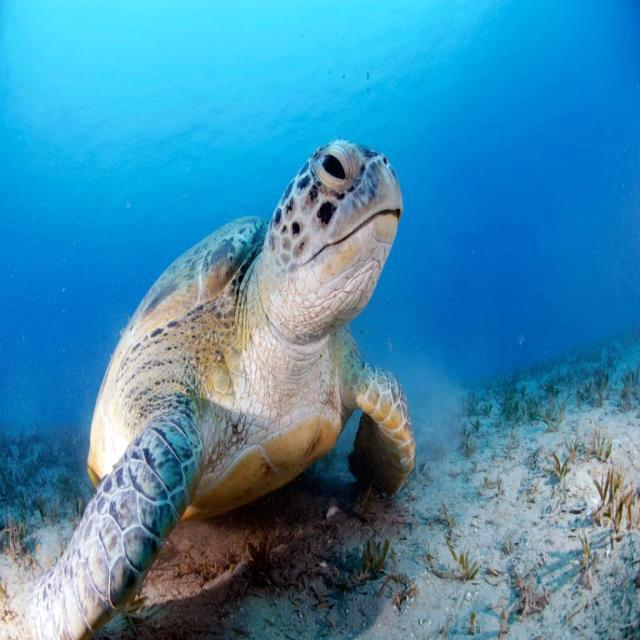Sea turtle: (36, 138, 413, 639)
